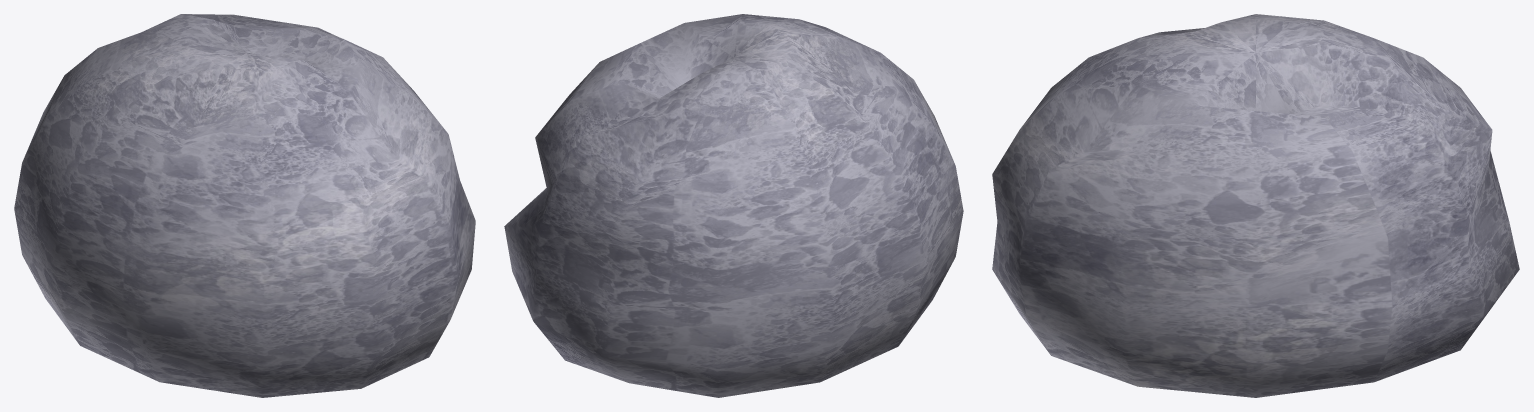
Rendered from rock.fbx.
3 views of the same model, side by side, from view 1: azimuth 30°, elevation 25°; view 2: azimuth 150°, elevation 25°; view 3: azimuth 270°, elevation 25° (orthographic). The views are drawn at different scales.
Parts seen in each view (by area): view 1: pSphere1; view 2: pSphere1; view 3: pSphere1.
Part boxes in pixels (<box>): pSphere1: <box>14,14,475,397</box>; pSphere1: <box>504,14,963,397</box>; pSphere1: <box>992,14,1519,397</box>.
Size of the model in its own units: 5.03 by 3.71 by 5.87.
1 material, 1 textured.
